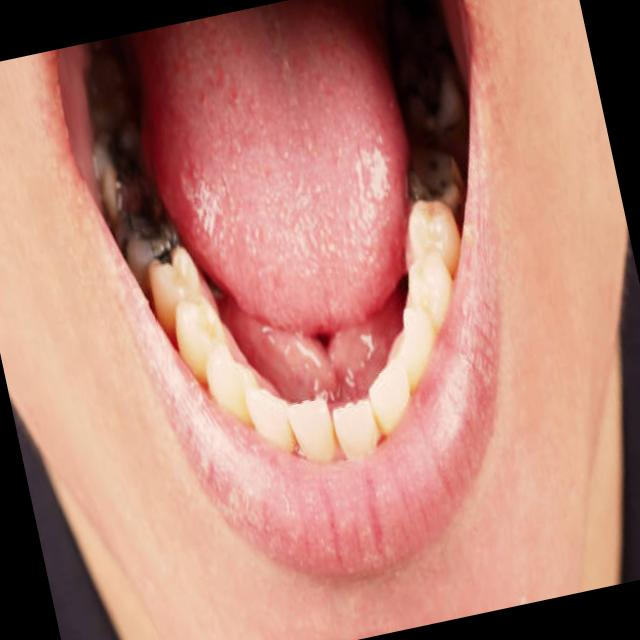caries: (393, 131, 474, 227), (115, 192, 188, 280), (89, 117, 147, 195)
